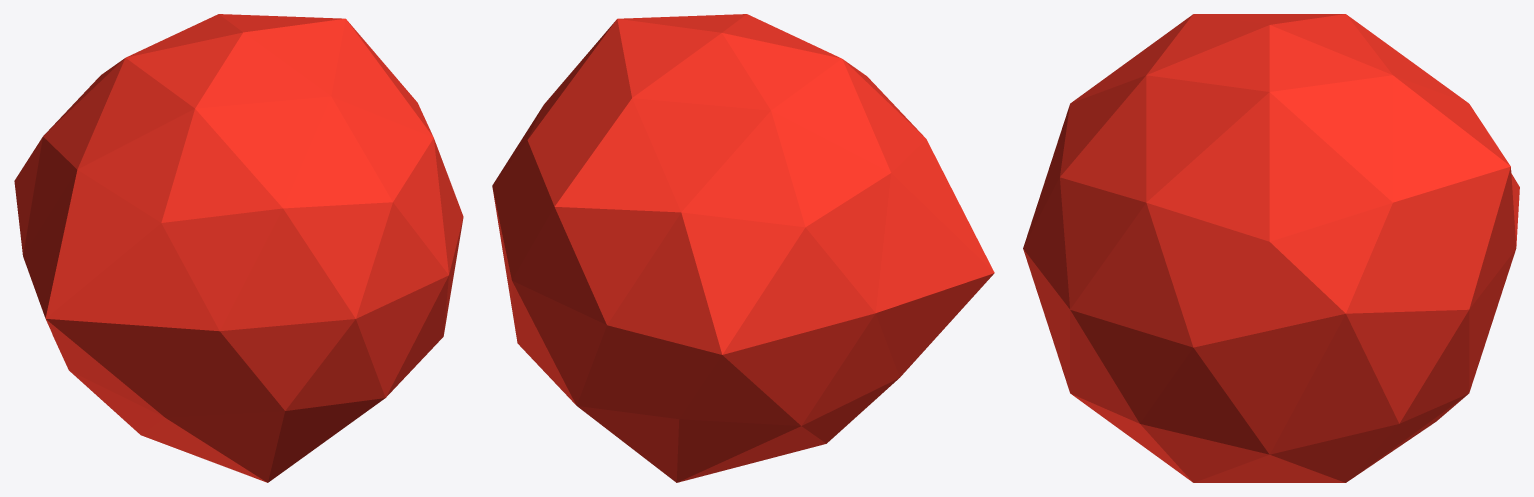
The model's file is Fireball.fbx.
3 renders of one model, left to right at view 1: azimuth 30°, elevation 25°; view 2: azimuth 150°, elevation 25°; view 3: azimuth 270°, elevation 25°, orthographic. The views are drawn at different scales.
Visible parts, largest first — view 1: Fireball; view 2: Fireball; view 3: Fireball.
Part boxes in pixels (x1,y1,x2,y2): Fireball: (14,14,463,482); Fireball: (492,14,994,482); Fireball: (1023,14,1519,482).
Bounding box in the file's own units: 217 × 200 × 201.
